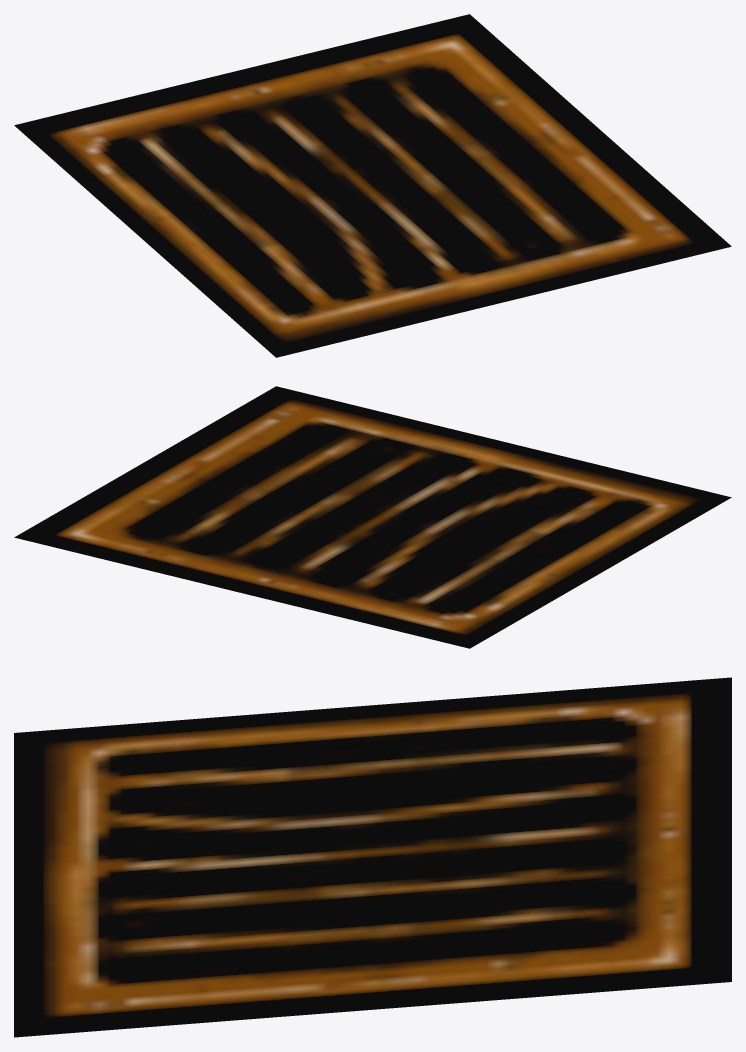
The model's file is Kanaldeckel_2593.glb.
3 renders of one model, top to bottom at view 1: azimuth 30°, elevation 25°; view 2: azimuth 150°, elevation 25°; view 3: azimuth 270°, elevation 25°, orthographic. The views are drawn at different scales.
Visible parts, largest first — view 1: pPlaneShape1; view 2: pPlaneShape1; view 3: pPlaneShape1.
Part boxes in pixels (<box>): pPlaneShape1: <box>14,14,731,357</box>; pPlaneShape1: <box>14,386,731,648</box>; pPlaneShape1: <box>14,677,731,1037</box>.
Size of the model in its own units: 0.117 by 0.00996 by 0.1166.
Materials: 1 (1 with a texture image).
